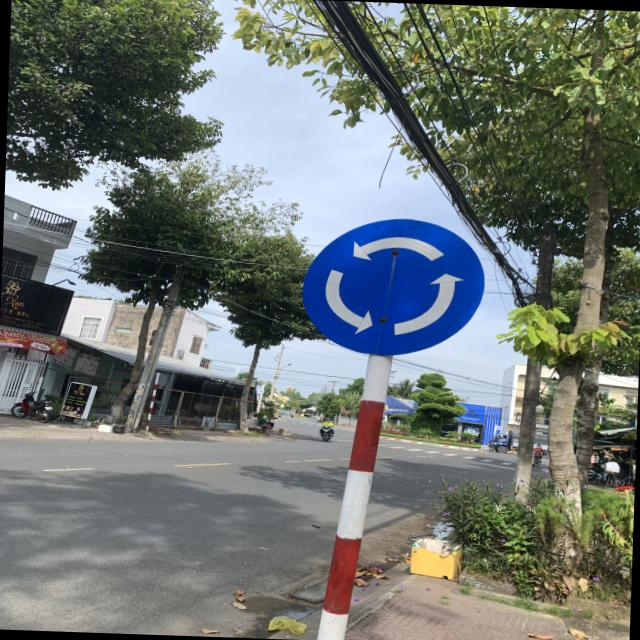Xe_Bus: (296, 212, 486, 362)
